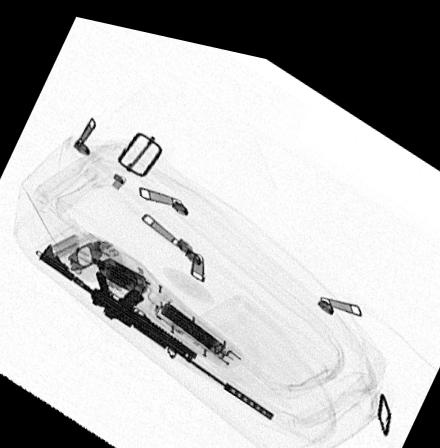Gun: (38, 239, 275, 408)
